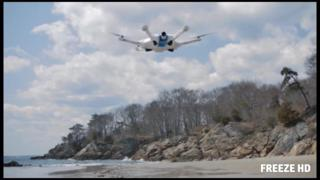UAV: (118, 25, 204, 54)
